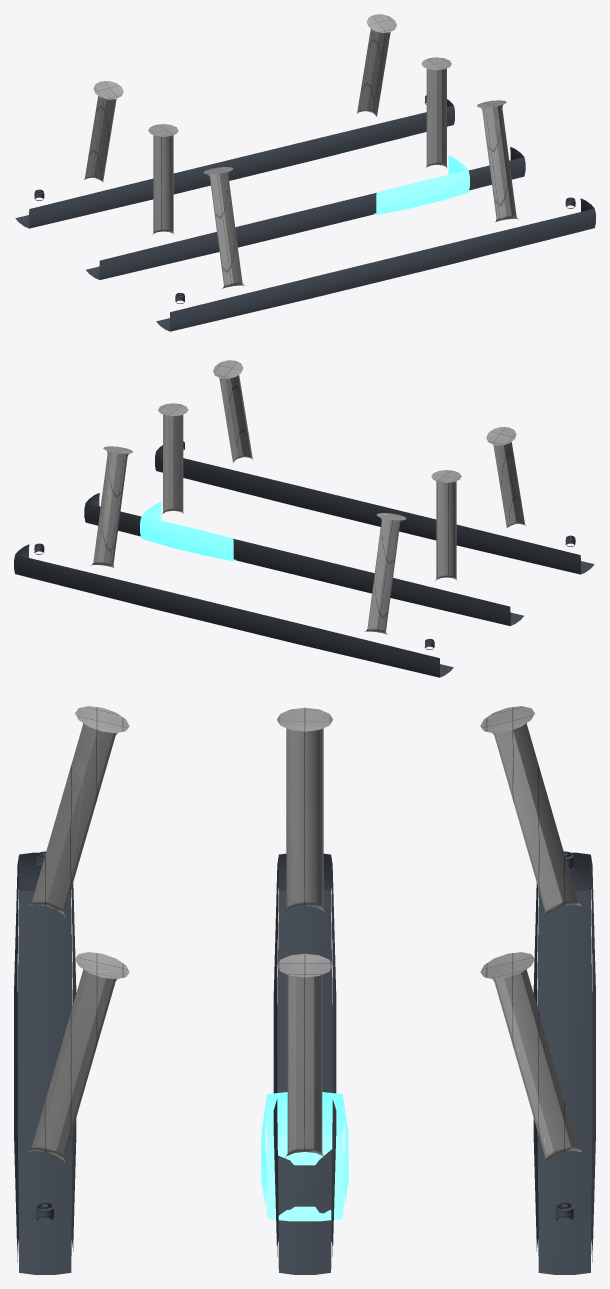
Rendered from skid_trio.glb.
The picture shows the model from 3 angles, top to bottom: view 1: azimuth 30°, elevation 25°; view 2: azimuth 150°, elevation 25°; view 3: azimuth 270°, elevation 25°; orthographic projection. The views are drawn at different scales.
Parts seen in each view (by area): view 1: skid_trio_Material_Mechanical_Merged, skid_trio_Material_Hull_Merged, Skid_Replacement_Foot; view 2: skid_trio_Material_Mechanical_Merged, skid_trio_Material_Hull_Merged, Skid_Replacement_Foot; view 3: skid_trio_Material_Mechanical_Merged, skid_trio_Material_Hull_Merged, Skid_Replacement_Foot.
Part boxes in pixels (<box>): skid_trio_Material_Mechanical_Merged: <box>15,95,595,331</box>; skid_trio_Material_Hull_Merged: <box>84,14,519,288</box>; Skid_Replacement_Foot: <box>374,155,469,215</box>; skid_trio_Material_Mechanical_Merged: <box>14,441,594,677</box>; skid_trio_Material_Hull_Merged: <box>90,360,525,634</box>; Skid_Replacement_Foot: <box>140,501,235,561</box>; skid_trio_Material_Mechanical_Merged: <box>14,851,595,1274</box>; skid_trio_Material_Hull_Merged: <box>28,706,581,1162</box>; Skid_Replacement_Foot: <box>261,1092,348,1221</box>.
Size of the model in its own units: 4.4 by 1.3 by 2.8.
Materials: 3 (1 with a texture image).
